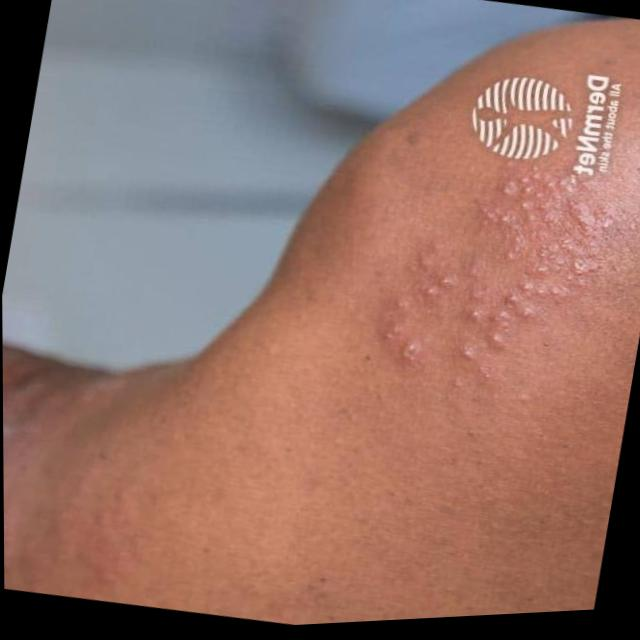Shingles: (364, 144, 607, 395)
